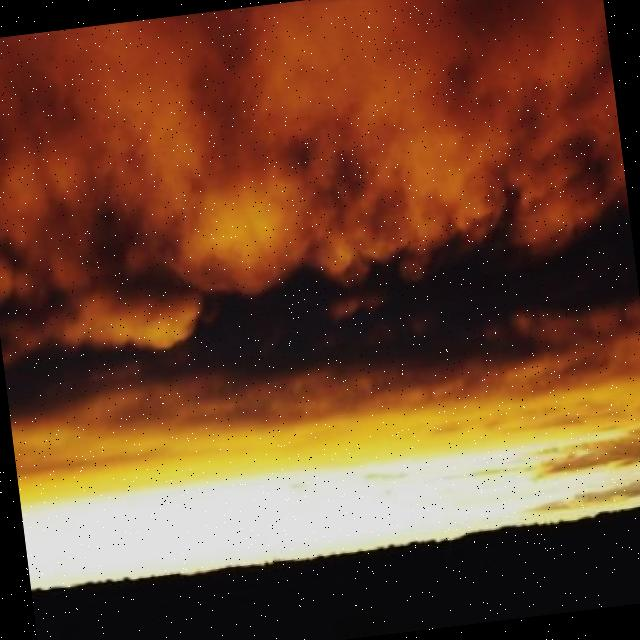As: (1, 9, 640, 513)
